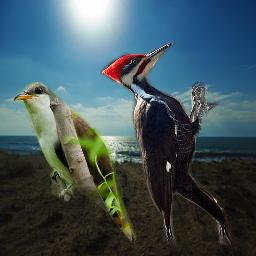Cuckoo: (9, 82, 143, 243)
Woodpecker: (100, 41, 233, 245)
